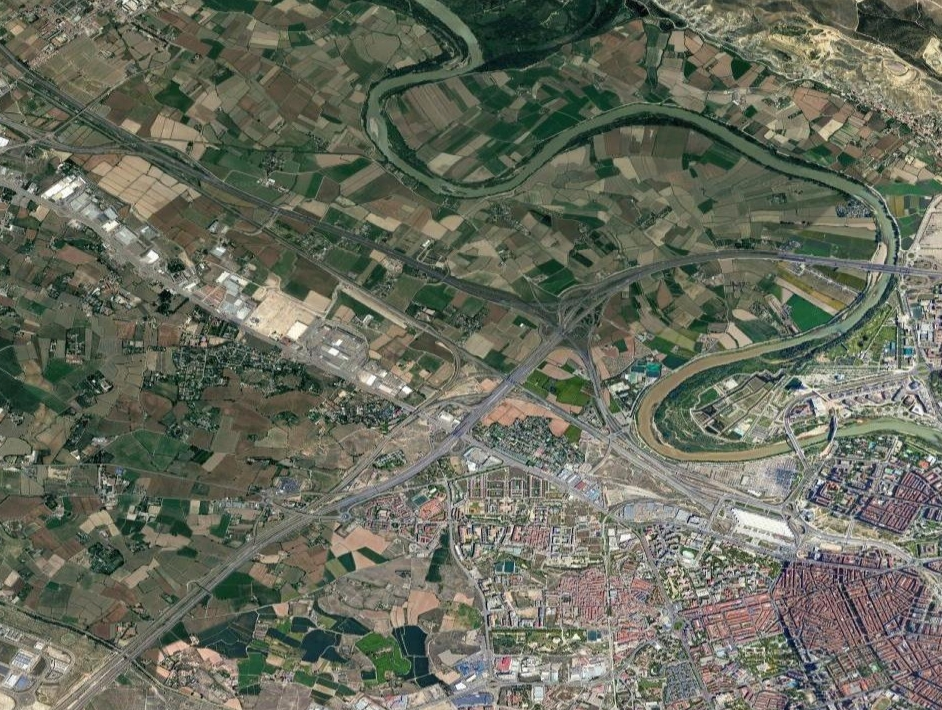bridge: (870, 253, 902, 280), (784, 432, 804, 453), (821, 421, 841, 442)
motorway: (544, 190, 942, 370), (1, 33, 210, 188), (365, 357, 554, 485), (33, 582, 221, 710), (209, 457, 397, 585), (205, 172, 393, 271), (380, 246, 568, 345), (566, 370, 659, 469), (644, 458, 781, 516)
